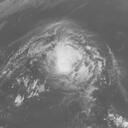cyclone: (27, 21, 104, 85)
